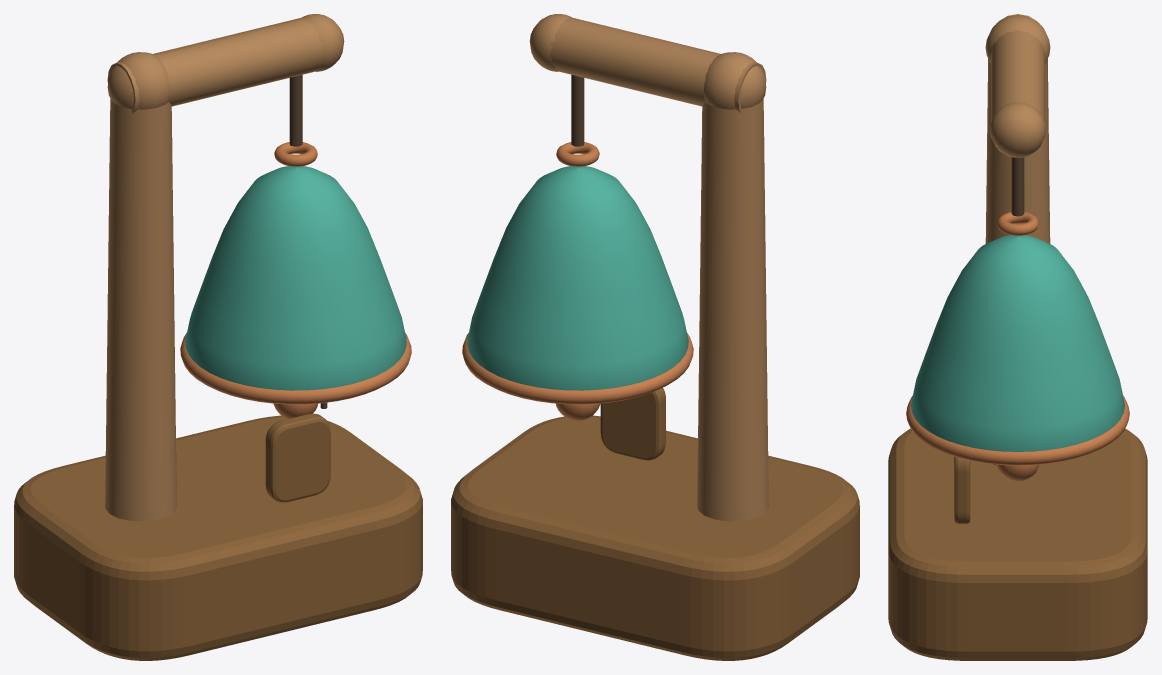
File: zen-chime.glb
3 views of the same model, side by side, from view 1: azimuth 30°, elevation 25°; view 2: azimuth 150°, elevation 25°; view 3: azimuth 270°, elevation 25° (orthographic). The views are drawn at different scales.
Parts seen in each view (by area): view 1: base, bell, upright, arm, tag, bell_rim, upright_cap, arm_end, cord, bell_loop; view 2: base, bell, upright, arm, tag, bell_rim, upright_cap, arm_end, cord, bell_loop; view 3: base, bell, upright, arm, bell_rim, arm_end, upright_cap, tag, cord, bell_loop, clapper.
Part boxes in pixels (<box>): base: <box>14,415,422,660</box>; bell: <box>185,166,406,390</box>; upright: <box>105,99,176,521</box>; arm: <box>107,17,324,113</box>; tag: <box>265,413,330,502</box>; bell_rim: <box>180,333,411,404</box>; upright_cap: <box>107,52,169,109</box>; arm_end: <box>302,14,344,71</box>; cord: <box>289,74,302,146</box>; bell_loop: <box>274,142,317,166</box>; base: <box>451,415,859,660</box>; bell: <box>467,166,688,390</box>; upright: <box>697,99,768,521</box>; arm: <box>549,17,766,113</box>; tag: <box>600,387,665,460</box>; bell_rim: <box>462,333,693,404</box>; upright_cap: <box>704,52,766,109</box>; arm_end: <box>529,14,571,71</box>; cord: <box>571,74,584,146</box>; bell_loop: <box>556,142,599,166</box>; base: <box>888,428,1147,660</box>; bell: <box>911,235,1124,451</box>; upright: <box>985,58,1050,465</box>; arm: <box>991,14,1044,122</box>; bell_rim: <box>906,395,1129,465</box>; arm_end: <box>990,102,1045,157</box>; upright_cap: <box>985,15,1050,63</box>; tag: <box>954,456,970,523</box>; cord: <box>1011,157,1024,216</box>; bell_loop: <box>997,212,1038,235</box>; clapper: <box>996,464,1039,481</box>.
Bounding box in the file's own units: 0.707 × 1.09 × 0.48.
